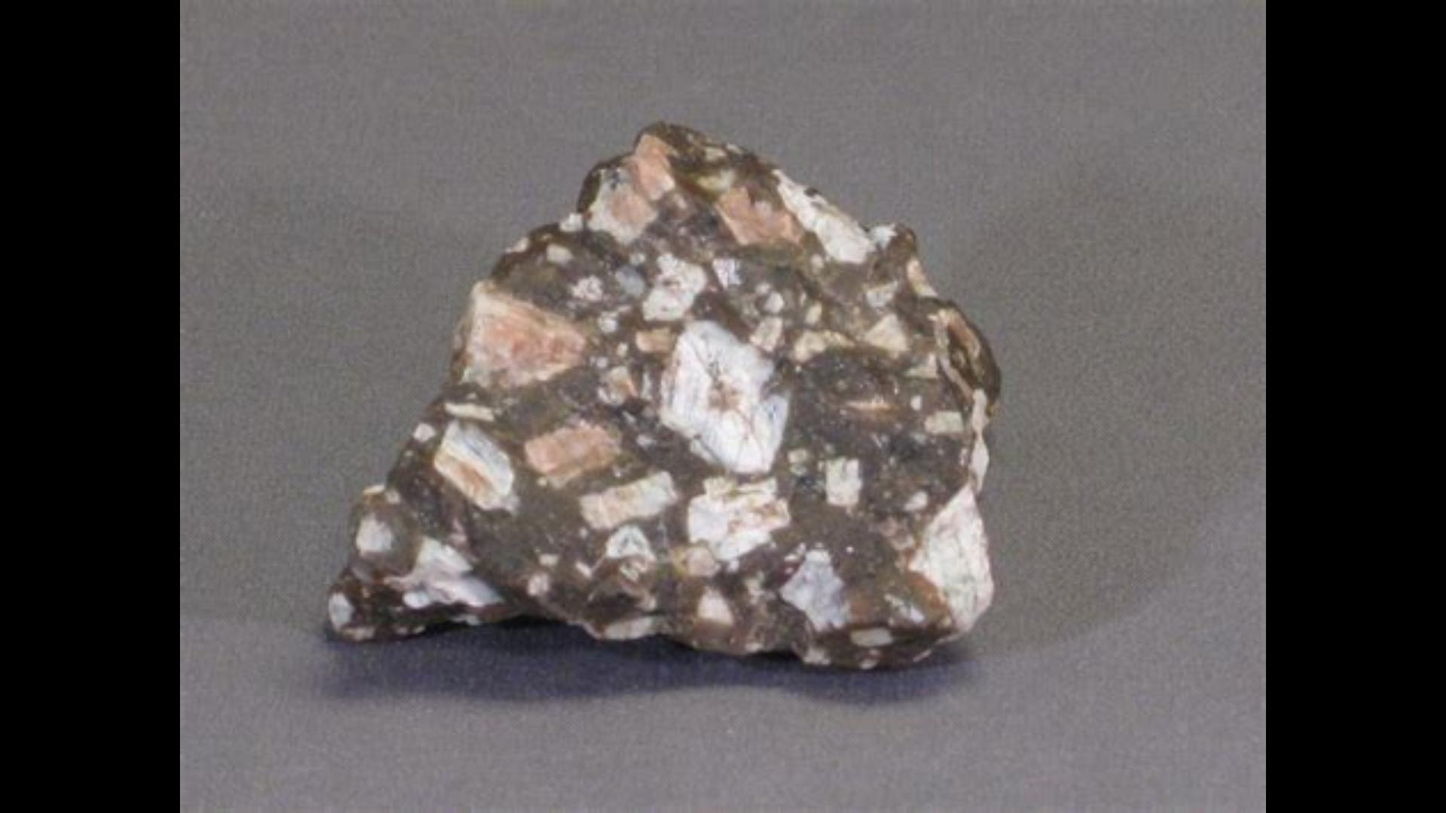rock: (327, 124, 998, 662)
